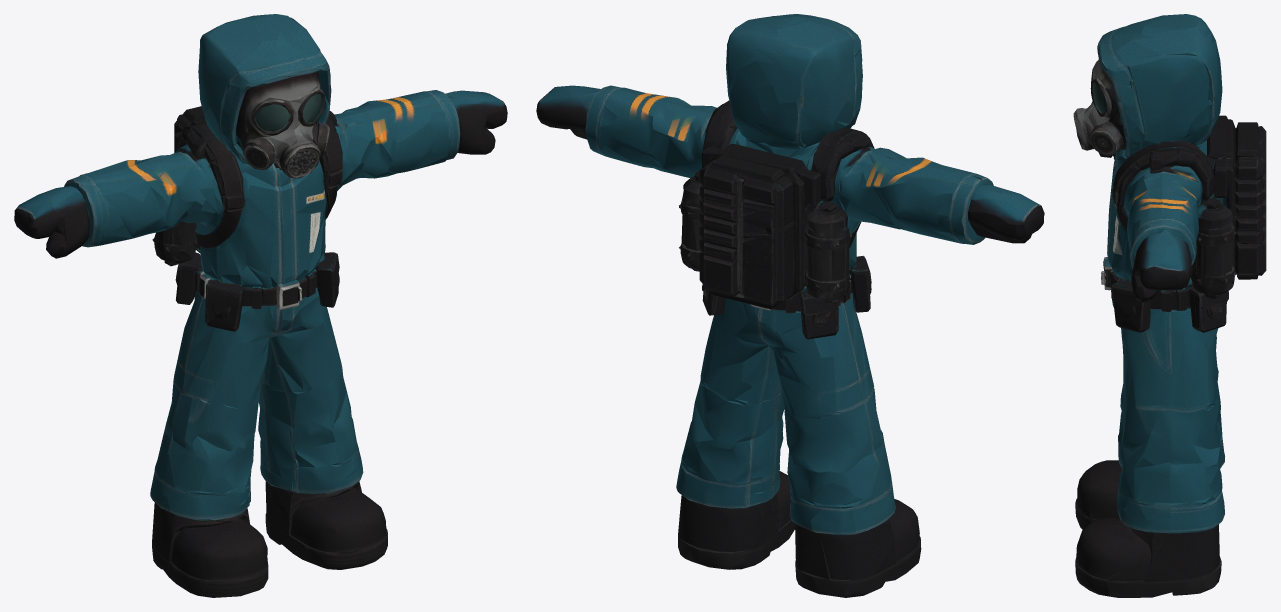
Rendered from signal-architect.glb.
3 renders of one model, left to right at view 1: azimuth 30°, elevation 25°; view 2: azimuth 150°, elevation 25°; view 3: azimuth 270°, elevation 25°, orthographic. The views are drawn at different scales.
Bounding box in the file's own units: 1.82 × 1.9 × 0.6345.
1 material, 1 textured.
